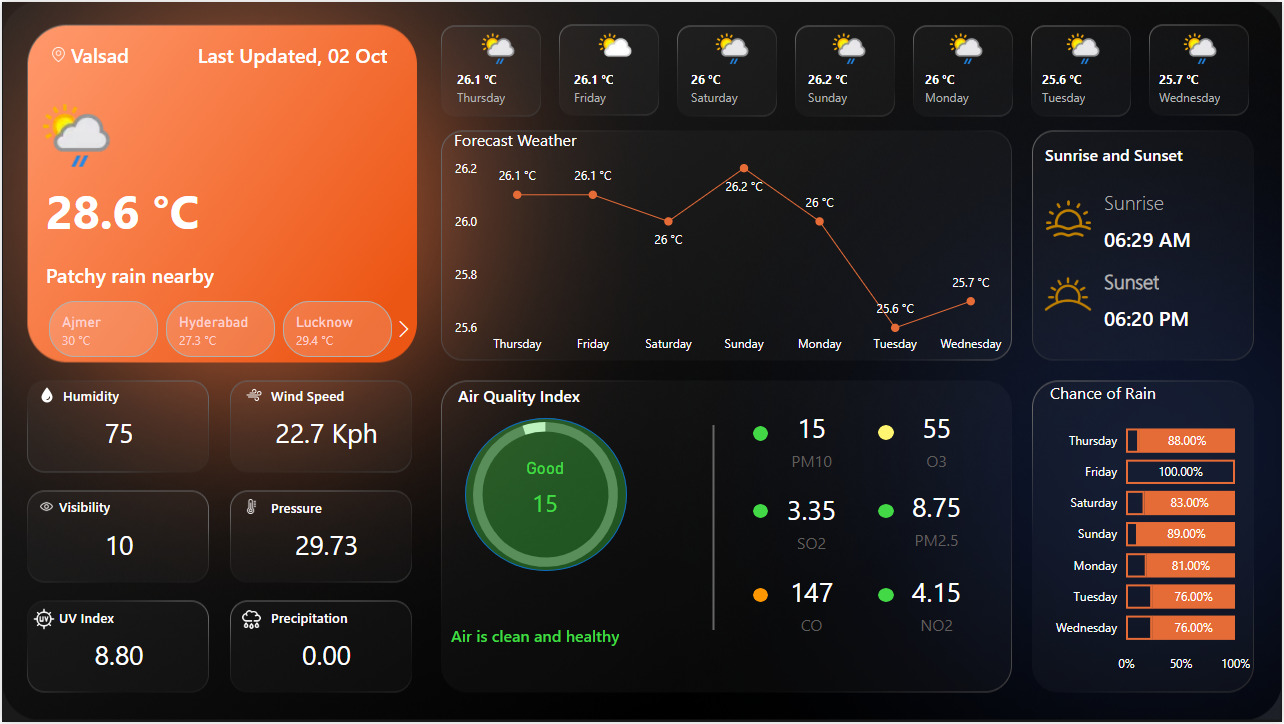

The page's visual inventory and layout, read from the dashboard file:
{"tool":"powerbi","page":{"name":"Page 1","canvas":[1280,720],"ordinal":0},"visuals":[{"type":"donutChart","fields":{"Y":["_Measures.Left_Value_PM10","Sum(Current.current.air_quality.pm10)"]},"box":[430.7,396.5,225,191.8],"z":0},{"type":"shape","box":[462.9,415.9,162.3,153.1],"z":1000},{"type":"advancedSlicerVisual","fields":{"Values":["Location.location.name"]},"box":[21.5,293.6,395,66.4],"z":2000},{"type":"shape","box":[44,165.2,175.1,84.4],"z":3000},{"type":"shape","box":[44,249.6,329.5,44],"z":4000},{"type":"shape","box":[69.1,31.1,119.6,41.8],"z":5000},{"type":"shape","box":[188.7,31.1,203.3,41.8],"z":6000},{"type":"image","box":[43.8,31.1,25.3,41.8],"z":7000},{"type":"cardVisual","fields":{"Data":["Min(Current.current.condition.icon)"]},"box":[13.5,73.6,118.5,106.8],"z":8000},{"type":"image","box":[26,492,36.8,25.1],"z":9000},{"type":"shape","box":[56.6,491.1,136.5,26],"z":10000},{"type":"image","box":[17.1,379.8,55.7,26],"z":11000},{"type":"image","box":[235.2,379.8,34.1,26],"z":12000},{"type":"image","box":[229.8,492,39.5,25.1],"z":13000},{"type":"image","box":[19.8,600.6,43.1,32.3],"z":14000},{"type":"image","box":[229.8,600.6,39.5,33.2],"z":15000},{"type":"shape","box":[61,379.8,136.5,26],"z":16000},{"type":"shape","box":[269.3,602.4,136.5,26],"z":17000},{"type":"shape","box":[269.3,492,136.5,26],"z":18000},{"type":"shape","box":[269.3,379.8,136.5,26],"z":19000},{"type":"shape","box":[56.6,602.4,136.5,26],"z":20000},{"type":"card","fields":{"Values":["Sum(Current.current.humidity)"]},"box":[44.9,405.8,144.5,51.2],"z":21000},{"type":"card","fields":{"Values":["_Measures.Wind_Speed"]},"box":[252.3,405.8,144.5,51.2],"z":22000},{"type":"card","fields":{"Values":["Sum(Current.current.pressure_in)"]},"box":[252.3,518,144.5,51.2],"z":23000},{"type":"card","fields":{"Values":["Sum(Current.current.vis_km)"]},"box":[44.9,518,144.5,51.2],"z":24000},{"type":"card","fields":{"Values":["Sum(Current.current.uv)"]},"box":[44.9,628.4,144.5,51.2],"z":25000},{"type":"card","fields":{"Values":["Sum(Current.current.precip_in)"]},"box":[252.3,628.4,144.5,51.2],"z":26000},{"type":"advancedSlicerVisual","fields":{"Values":["Forcast_Day.Day_Name"]},"box":[437.2,19.8,823.2,94.3],"z":27000},{"type":"lineChart","title":"Forecast Weather","fields":{"Y":["Sum(Forcast_Day.forecast.forecastday.day.avgtemp_c)"],"Category":["Forcast_Day.Day_Name"]},"box":[447.1,127.5,563.8,232.5],"z":28000},{"type":"shape","box":[1043.2,139.2,184,26],"z":29000},{"type":"shape","box":[1101.5,180.4,125.7,37.7],"z":30000},{"type":"shape","box":[1101.5,258.6,125.7,39.5],"z":31000},{"type":"shape","box":[1101.5,218.2,125.7,36.8],"z":32000},{"type":"shape","box":[1101.5,293.6,125.7,42.2],"z":33000},{"type":"image","box":[1029.7,189.4,71.8,54.8],"z":34000},{"type":"image","box":[1029.7,255,71.8,73.6],"z":35000},{"type":"hundredPercentStackedBarChart","title":"Chance of Rain","fields":{"Y":["Current.Left_value_Rain","Sum(Forcast_Day.forecast.forecastday.day.daily_chance_of_rain)"],"Category":["Forcast_Day.Day_Name"]},"box":[1043.2,379.8,210.1,299.9],"z":36000},{"type":"shape","box":[456.1,379.8,184,26],"z":37000},{"type":"card","fields":{"Values":["Sum(Current.current.air_quality.o3)"]},"box":[876.1,393.8,117.1,87.6],"z":38000},{"type":"card","fields":{"Values":["Sum(Current.current.air_quality.no2)"]},"box":[876.1,557,117.1,87.6],"z":39000},{"type":"card","fields":{"Values":["Sum(Current.current.air_quality.pm2_5)"]},"box":[876.1,478.6,117.1,75.6],"z":40000},{"type":"card","fields":{"Values":["Sum(Current.current.air_quality.pm10)"]},"box":[750.7,393.8,117.1,87.6],"z":41000},{"type":"card","fields":{"Values":["Sum(Current.current.air_quality.co)"]},"box":[750.7,557,117.1,87.6],"z":42000},{"type":"card","fields":{"Values":["Sum(Current.current.air_quality.so2)"]},"box":[750.7,481.4,117.1,75.6],"z":43000},{"type":"shape","box":[750.7,424.2,15.7,14.8],"z":44000},{"type":"shape","box":[750.7,585.6,15.7,14.8],"z":45000},{"type":"shape","box":[750.7,501.7,15.7,14.8],"z":46000},{"type":"shape","box":[876.1,423.3,15.7,14.8],"z":47000},{"type":"shape","box":[876.1,501.7,15.7,14.8],"z":48000},{"type":"shape","box":[876.1,585.6,15.7,14.8],"z":49000},{"type":"shape","box":[682.4,423.3,58.1,204.7],"z":50000},{"type":"card","fields":{"Values":["Sum(Current.current.air_quality.pm10)"]},"box":[498.9,455.6,87.6,73.8],"z":51000},{"type":"shape","box":[449.1,593.9,250.8,78.4],"z":52000}]}

Visuals, with their boxes in screenshot pixels (x1, y1, x2, y2), scaled from the page's 1280x720 canvas onto the 1284x724 screenshot:
donutChart - _Measures.Left_Value_PM10 x Sum(Current.current.air_quality.pm10): Rect(432, 399, 658, 592)
shape: Rect(464, 418, 627, 572)
advancedSlicerVisual - Location.location.name: Rect(22, 295, 418, 362)
shape: Rect(44, 166, 220, 251)
shape: Rect(44, 251, 375, 295)
shape: Rect(69, 31, 189, 73)
shape: Rect(189, 31, 393, 73)
image: Rect(44, 31, 69, 73)
cardVisual - Min(Current.current.condition.icon): Rect(14, 74, 132, 181)
image: Rect(26, 495, 63, 520)
shape: Rect(57, 494, 194, 520)
image: Rect(17, 382, 73, 408)
image: Rect(236, 382, 270, 408)
image: Rect(231, 495, 270, 520)
image: Rect(20, 604, 63, 636)
image: Rect(231, 604, 270, 637)
shape: Rect(61, 382, 198, 408)
shape: Rect(270, 606, 407, 632)
shape: Rect(270, 495, 407, 521)
shape: Rect(270, 382, 407, 408)
shape: Rect(57, 606, 194, 632)
card - Sum(Current.current.humidity): Rect(45, 408, 190, 460)
card - _Measures.Wind_Speed: Rect(253, 408, 398, 460)
card - Sum(Current.current.pressure_in): Rect(253, 521, 398, 572)
card - Sum(Current.current.vis_km): Rect(45, 521, 190, 572)
card - Sum(Current.current.uv): Rect(45, 632, 190, 683)
card - Sum(Current.current.precip_in): Rect(253, 632, 398, 683)
advancedSlicerVisual - Forcast_Day.Day_Name: Rect(439, 20, 1264, 115)
"Forecast Weather" lineChart: Rect(448, 128, 1014, 362)
shape: Rect(1046, 140, 1231, 166)
shape: Rect(1105, 181, 1231, 219)
shape: Rect(1105, 260, 1231, 300)
shape: Rect(1105, 219, 1231, 256)
shape: Rect(1105, 295, 1231, 338)
image: Rect(1033, 190, 1105, 246)
image: Rect(1033, 256, 1105, 330)
"Chance of Rain" hundredPercentStackedBarChart: Rect(1046, 382, 1257, 683)
shape: Rect(458, 382, 642, 408)
card - Sum(Current.current.air_quality.o3): Rect(879, 396, 996, 484)
card - Sum(Current.current.air_quality.no2): Rect(879, 560, 996, 648)
card - Sum(Current.current.air_quality.pm2_5): Rect(879, 481, 996, 557)
card - Sum(Current.current.air_quality.pm10): Rect(753, 396, 871, 484)
card - Sum(Current.current.air_quality.co): Rect(753, 560, 871, 648)
card - Sum(Current.current.air_quality.so2): Rect(753, 484, 871, 560)
shape: Rect(753, 427, 769, 441)
shape: Rect(753, 589, 769, 604)
shape: Rect(753, 504, 769, 519)
shape: Rect(879, 426, 895, 441)
shape: Rect(879, 504, 895, 519)
shape: Rect(879, 589, 895, 604)
shape: Rect(685, 426, 743, 631)
card - Sum(Current.current.air_quality.pm10): Rect(500, 458, 588, 532)
shape: Rect(451, 597, 702, 676)
